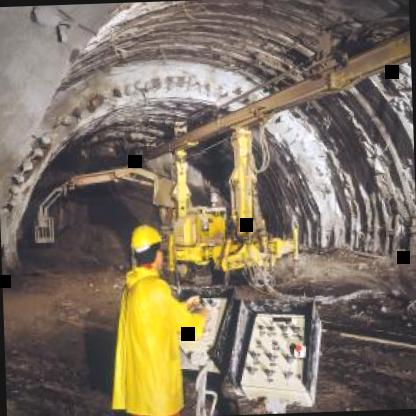helmet: (129, 221, 166, 272)
